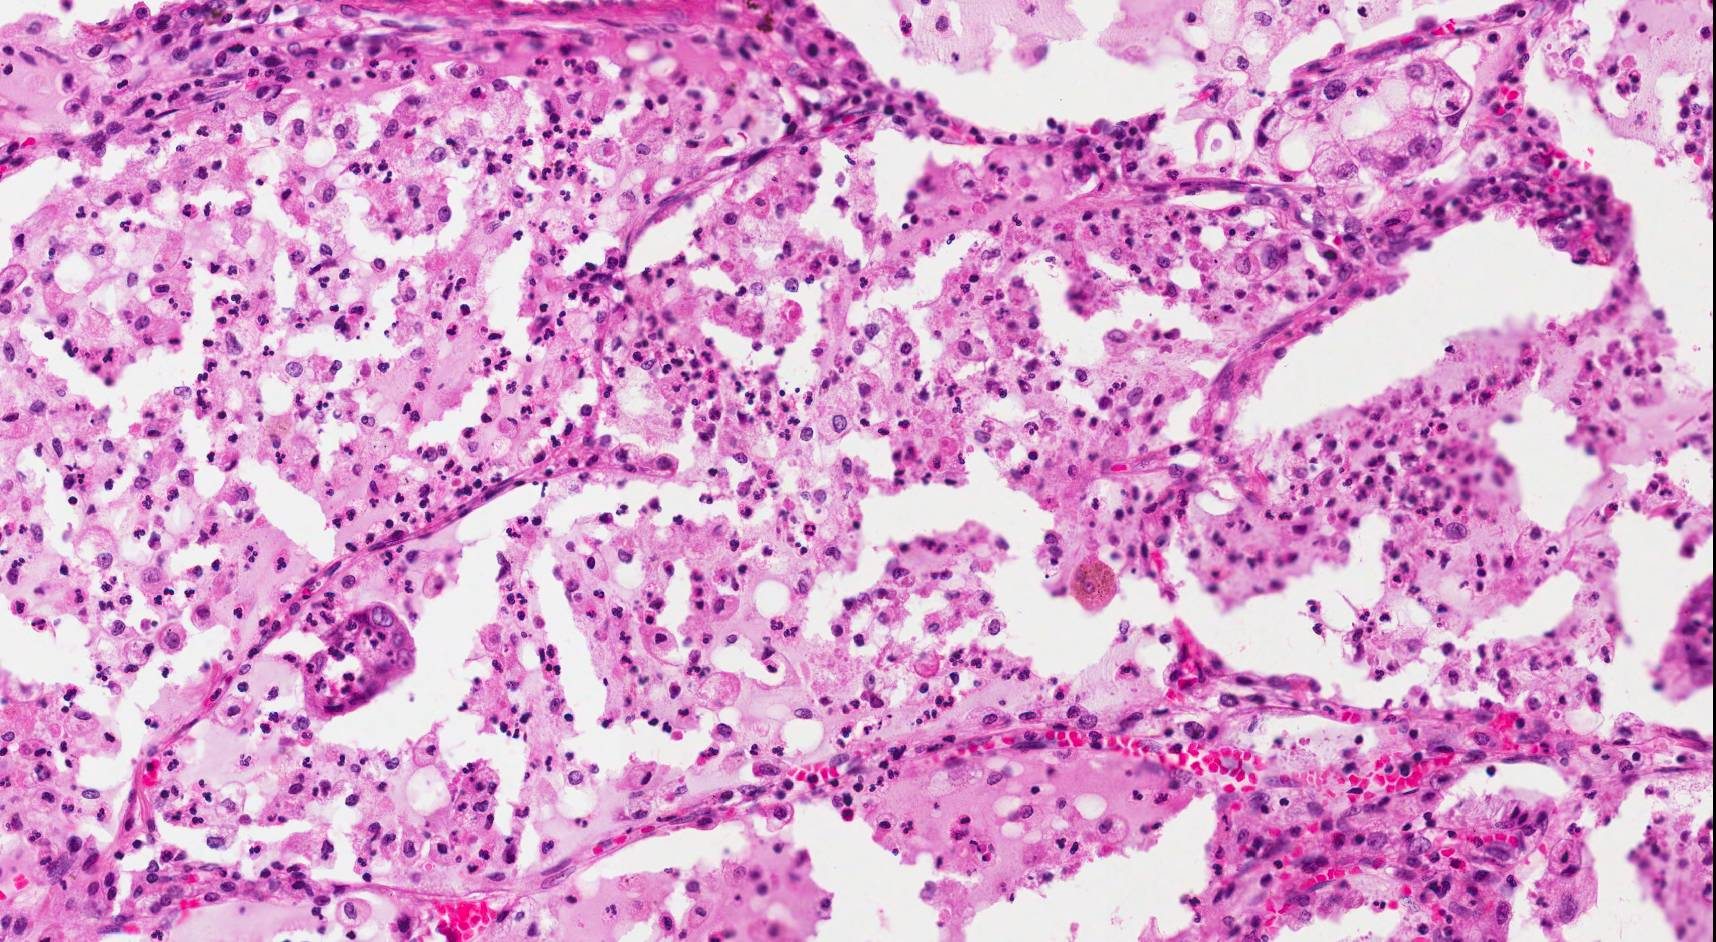stas: (1256, 58, 1474, 178), (299, 601, 421, 717)
